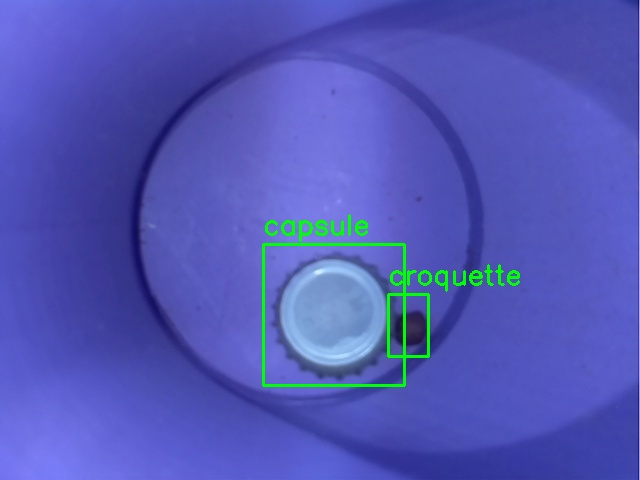capsule: (263, 244, 404, 385)
croquette: (388, 294, 428, 356)
